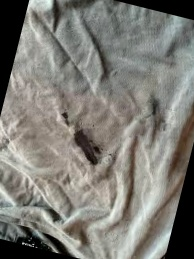oil: (46, 105, 113, 175)
